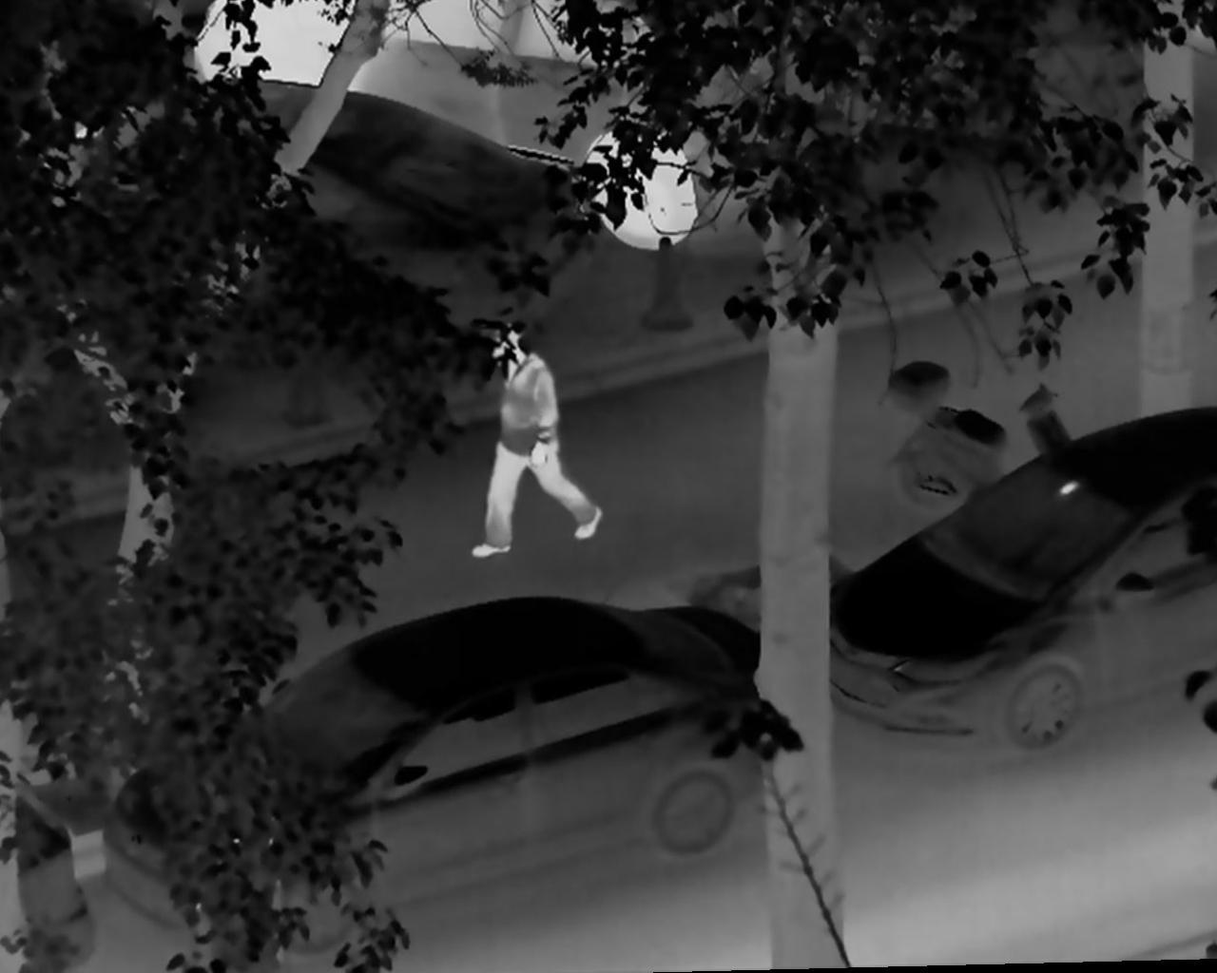person: (468, 324, 603, 560)
